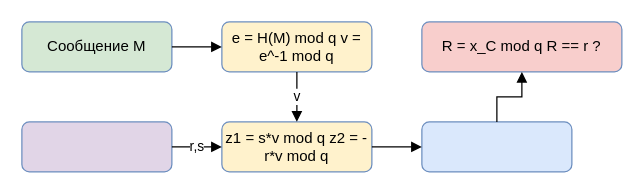
Image size: 644x194. Some labels were removed from this diagram. The box of each missing label's shape, as (x1, y1, x2, y2) in pixels:
C = z1*P + z2*Q: (421, 121, 572, 172)
Подпись (r, s): (21, 121, 172, 172)
